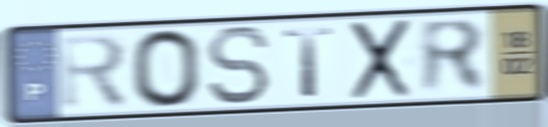O: (128, 26, 205, 111)
R: (57, 31, 132, 114), (416, 17, 491, 98)
S: (203, 23, 273, 108)
T: (280, 24, 338, 100)
X: (348, 15, 414, 103)
